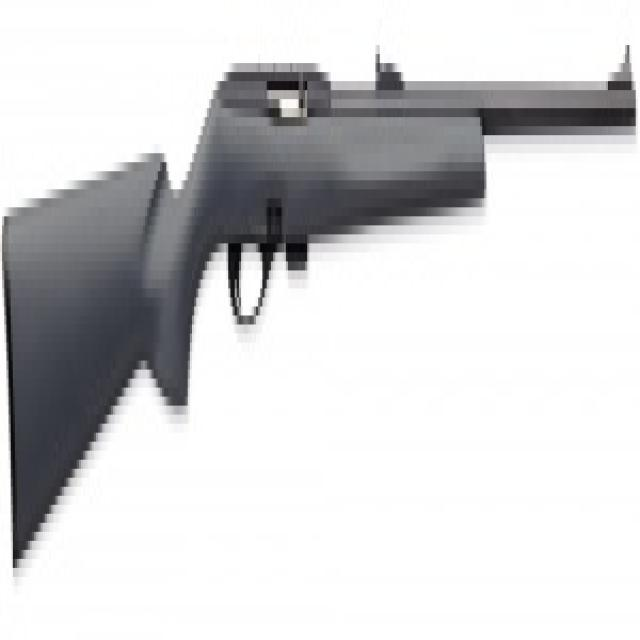rifle: (1, 34, 640, 581)
